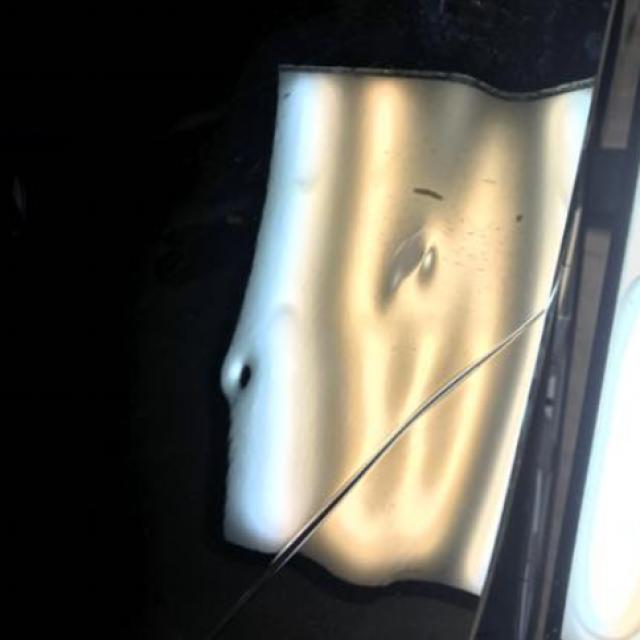dents: (369, 189, 518, 358)
